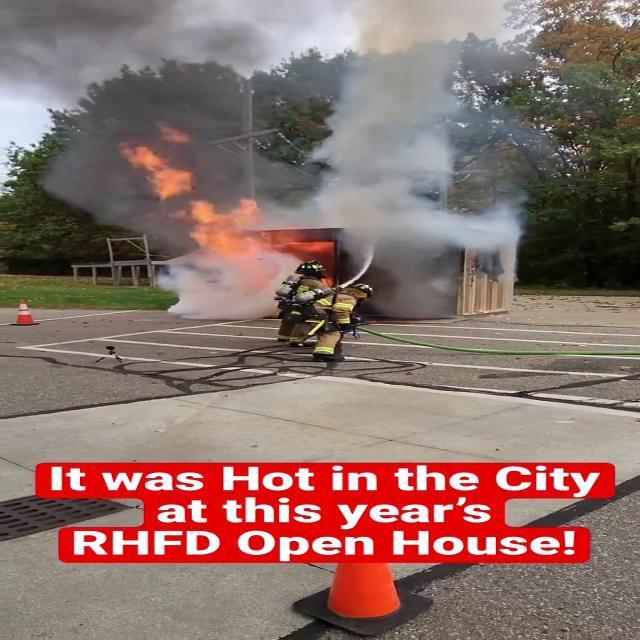Fire: (120, 118, 200, 198), (186, 199, 264, 256)
Smoke: (12, 1, 564, 293)
